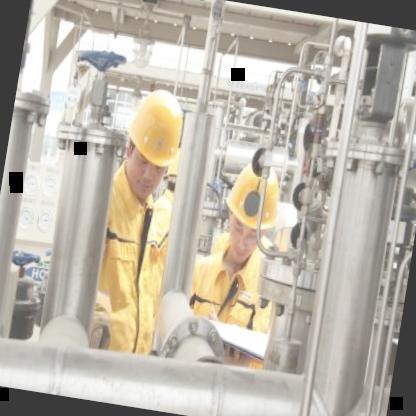helmet: (110, 76, 197, 210), (216, 152, 290, 271)
